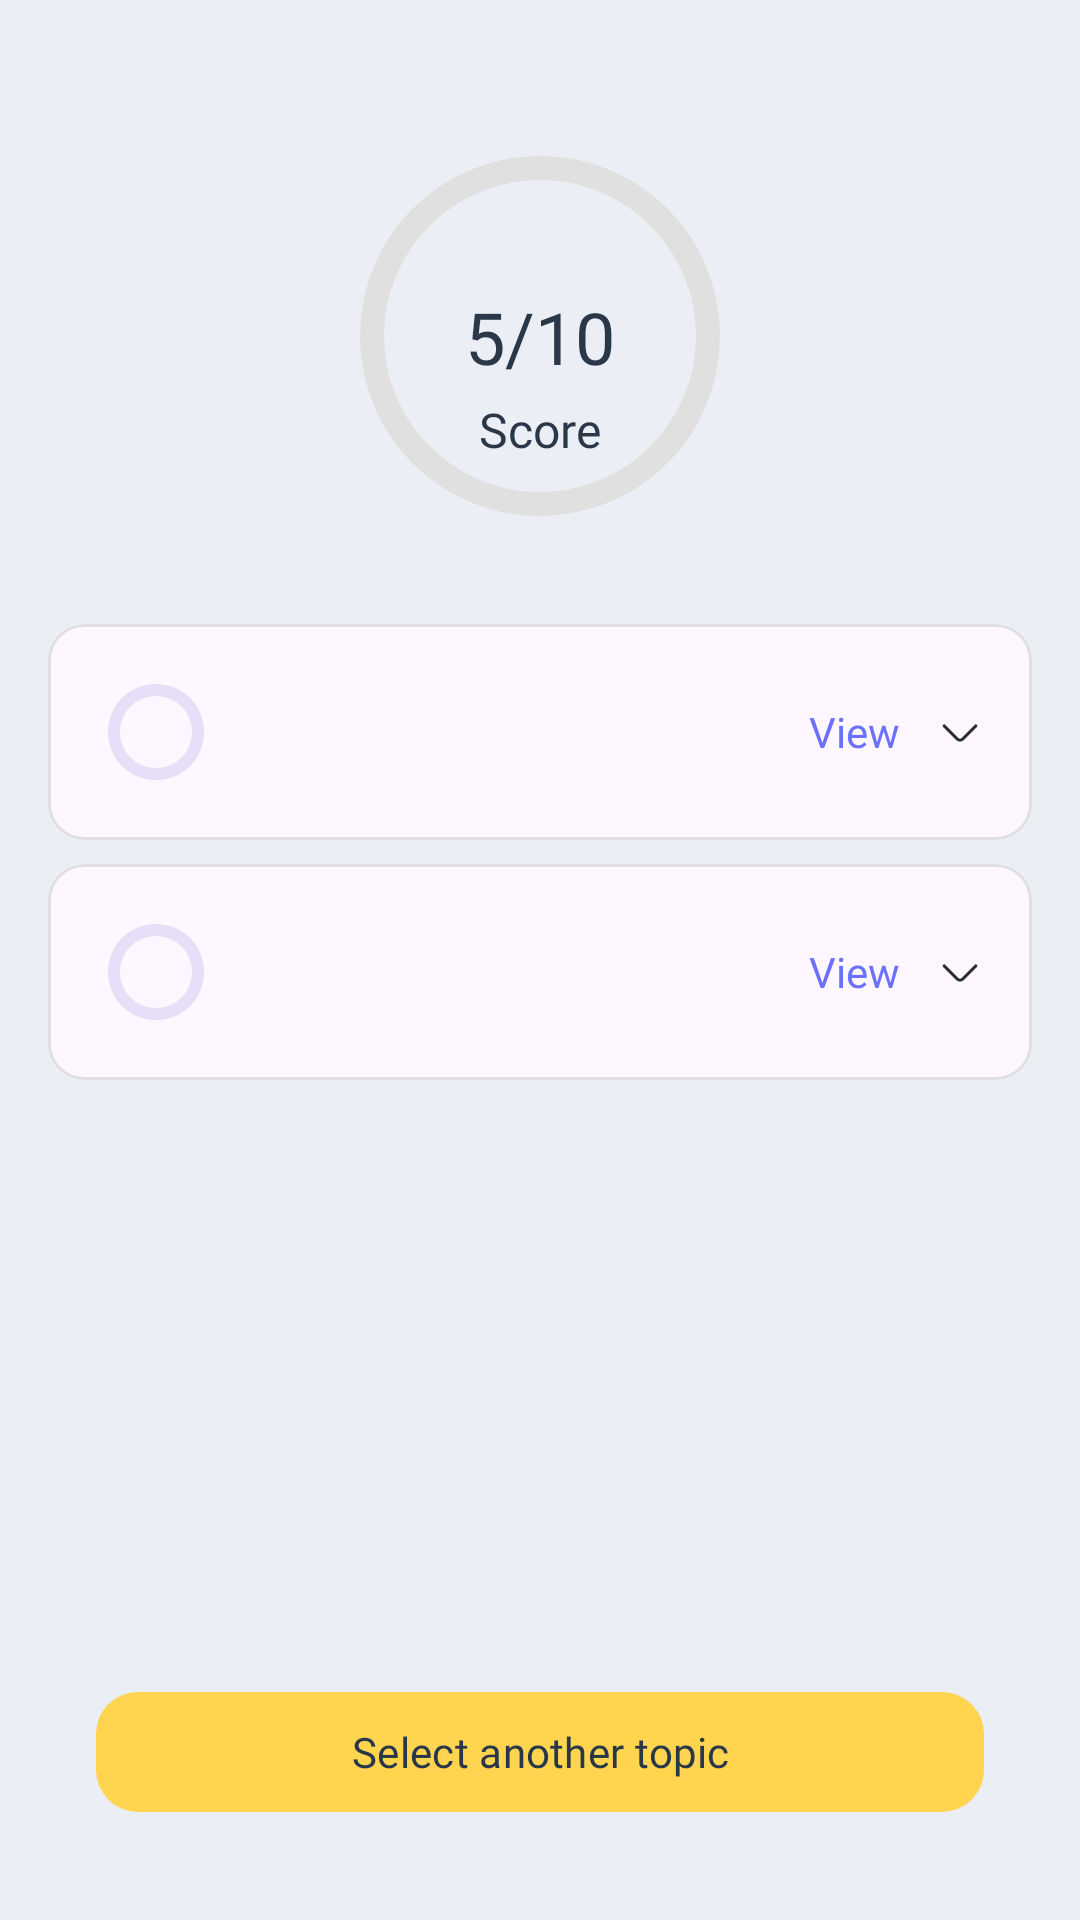

Icons on this 1080 x 1920 Android screen, each with the point to tap as point (x, y):
down: point (960, 733), point (960, 973)
